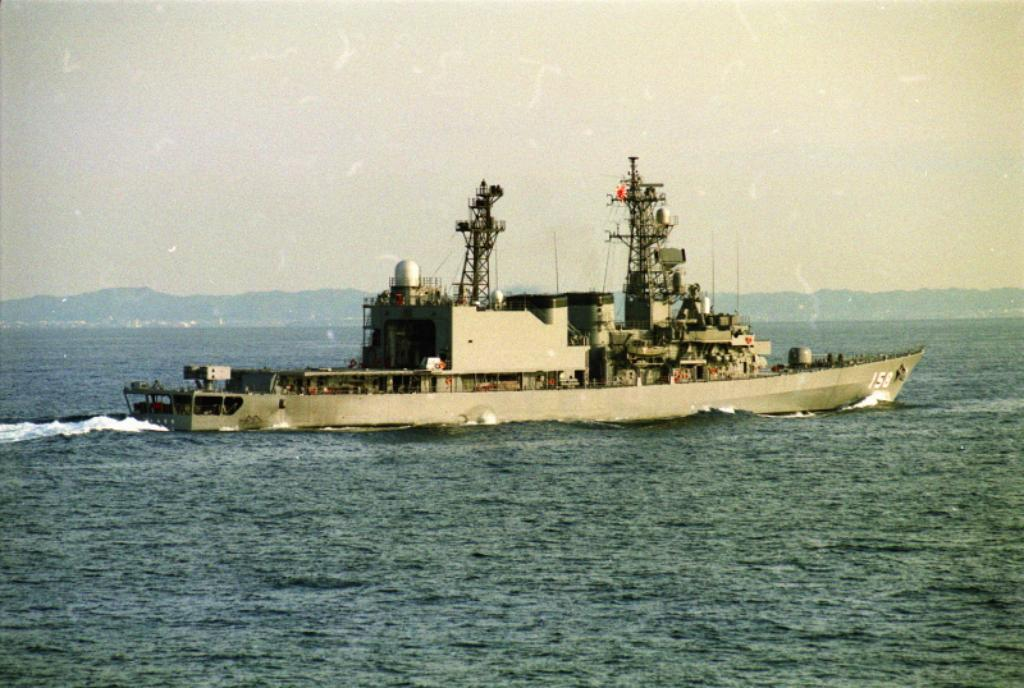Warship: (118, 145, 930, 437)
